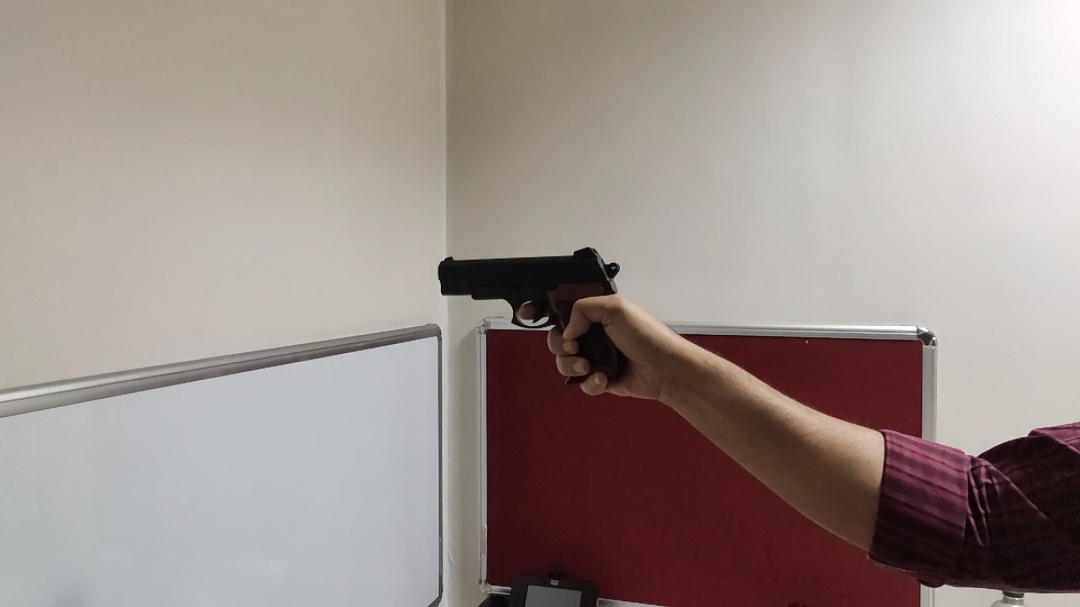gun: (434, 247, 632, 387)
